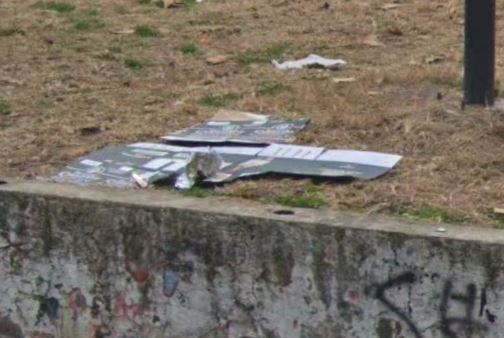trash: (48, 98, 402, 209), (271, 50, 352, 75)
